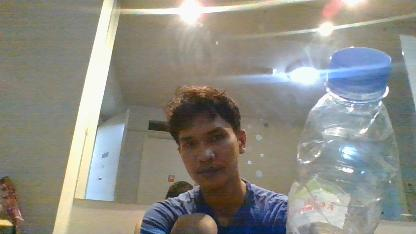Plastic Bottle: (285, 46, 405, 234)
